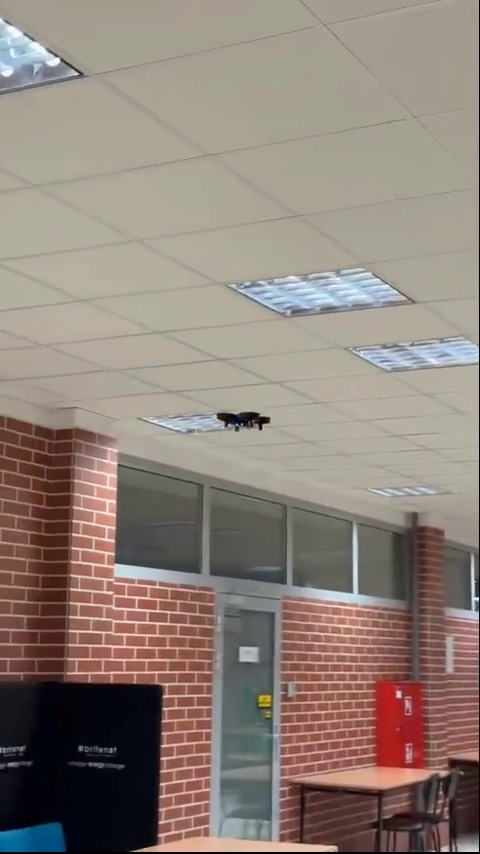drone: (216, 405, 271, 431)
